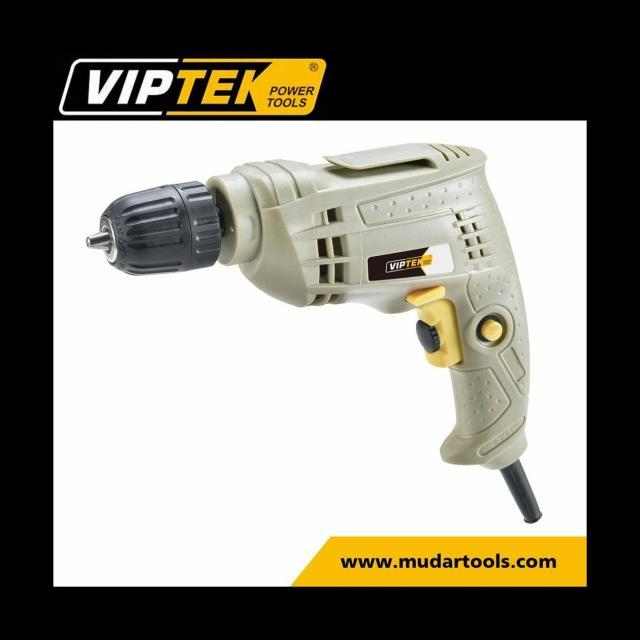drill: (85, 142, 542, 524)
